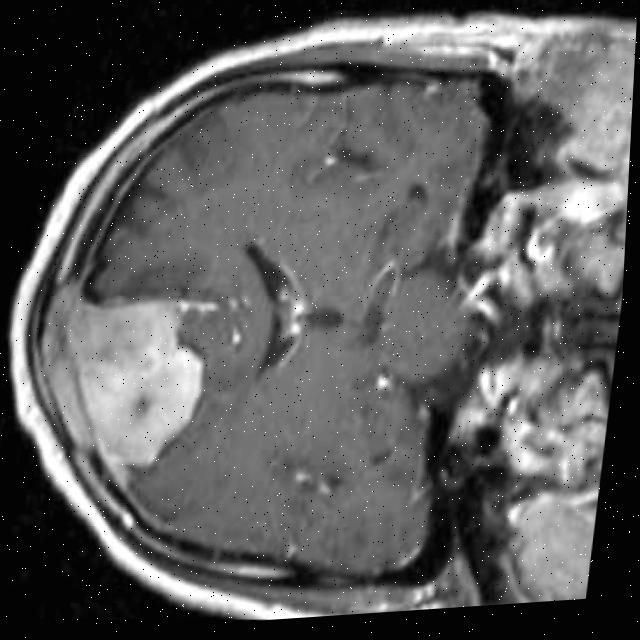Meningioma: (21, 265, 222, 501)
